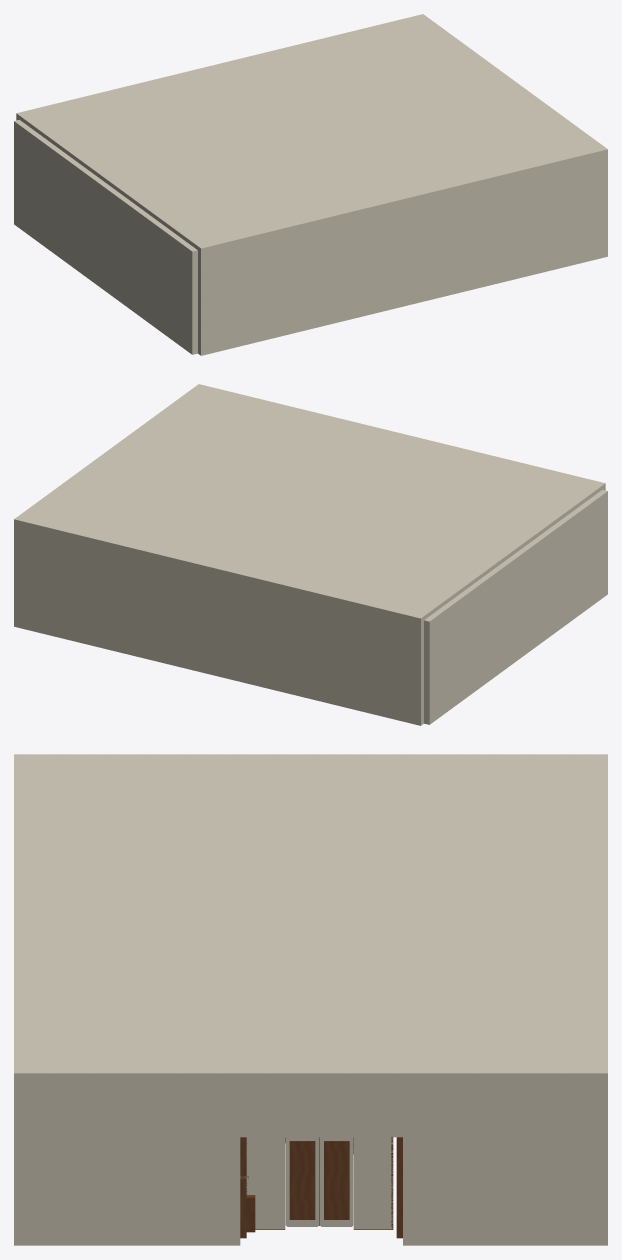
3 views of the same model, one above another, from view 1: azimuth 30°, elevation 25°; view 2: azimuth 150°, elevation 25°; view 3: azimuth 270°, elevation 25° (orthographic). The views are drawn at different scales.
Visible parts, largest first — view 1: PremiumPressureClosure, AftPartyWall, HeldFrontageOpaqueEnclosure, InnerAftPartyReturn; view 2: PremiumPressureClosure, ForePartyWall, HeldFrontageOpaqueEnclosure, InnerForePartyReturn; view 3: PremiumPressureClosure, InnerAftPartyReturn, InnerForePartyReturn, ArrivalHeader, PrivateEntry_01_ENTRY_PocketSkin_-1_1, PrivateEntry_01_ENTRY_PocketSkin_1_1, PrivateEntry_01_ENTRY_TimberInset_RIGHT_1, PrivateEntry_01_ENTRY_TimberInset_LEFT_1, PrivateEntry_01_ENTRY_MovingPanel_LEFT, PrivateEntry_01_ENTRY_MovingPanel_RIGHT, ForePartyWall, AftPartyWall (+2 smaller).
Part boxes in pixels (x1,y1,x2,y2): PremiumPressureClosure: (16,14,607,252); AftPartyWall: (198,154,607,355); HeldFrontageOpaqueEnclosure: (14,119,197,354); InnerAftPartyReturn: (602,153,607,257); PremiumPressureClosure: (14,384,605,622); ForePartyWall: (14,524,423,725); HeldFrontageOpaqueEnclosure: (424,489,607,724); InnerForePartyReturn: (14,523,19,627); PremiumPressureClosure: (14,754,607,1079); InnerAftPartyReturn: (14,1079,240,1245); InnerForePartyReturn: (403,1079,607,1245); ArrivalHeader: (240,1079,402,1137); PrivateEntry_01_ENTRY_PocketSkin_-1_1: (353,1137,393,1228); PrivateEntry_01_ENTRY_PocketSkin_1_1: (246,1137,285,1228); PrivateEntry_01_ENTRY_TimberInset_RIGHT_1: (289,1141,315,1219); PrivateEntry_01_ENTRY_TimberInset_LEFT_1: (324,1141,349,1219); PrivateEntry_01_ENTRY_MovingPanel_LEFT: (320,1137,353,1226); PrivateEntry_01_ENTRY_MovingPanel_RIGHT: (285,1137,318,1226); ForePartyWall: (597,1079,607,1245); AftPartyWall: (14,1080,24,1245).
Size of the model in its own units: 17.88 by 4.45 by 13.88.
158 materials, 152 textured.
